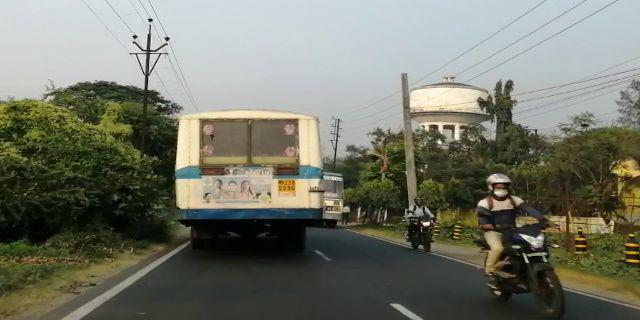Bus: (170, 109, 322, 254), (314, 169, 349, 228)
Motorbike: (470, 174, 572, 317), (398, 192, 438, 254)
